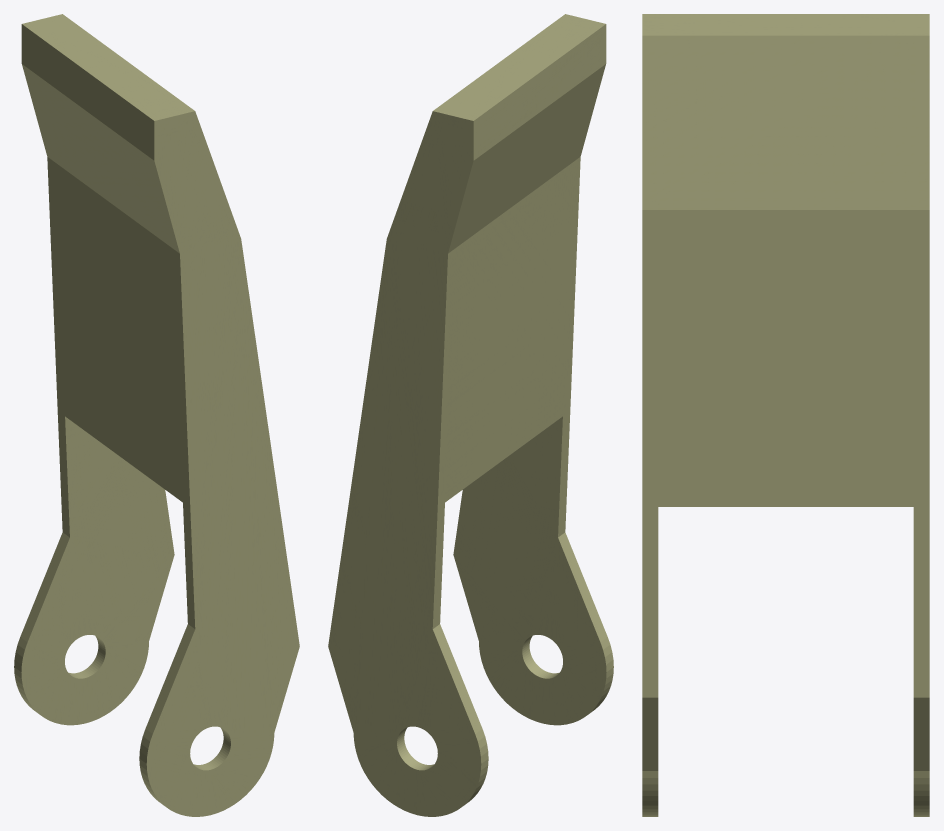
File: melissa_finger.dae
The picture shows the model from 3 angles, left to right: view 1: azimuth 30°, elevation 25°; view 2: azimuth 150°, elevation 25°; view 3: azimuth 270°, elevation 25°; orthographic projection. The views are drawn at different scales.
Parts seen in each view (by area): view 1: node; view 2: node; view 3: node.
Part boxes in pixels (bbox=[...]): node: bbox=[14, 14, 299, 816]; node: bbox=[328, 14, 613, 816]; node: bbox=[642, 14, 929, 816].
Bounding box in the file's own units: 0.03 × 0.1325 × 0.045.
1 material, 1 textured.
